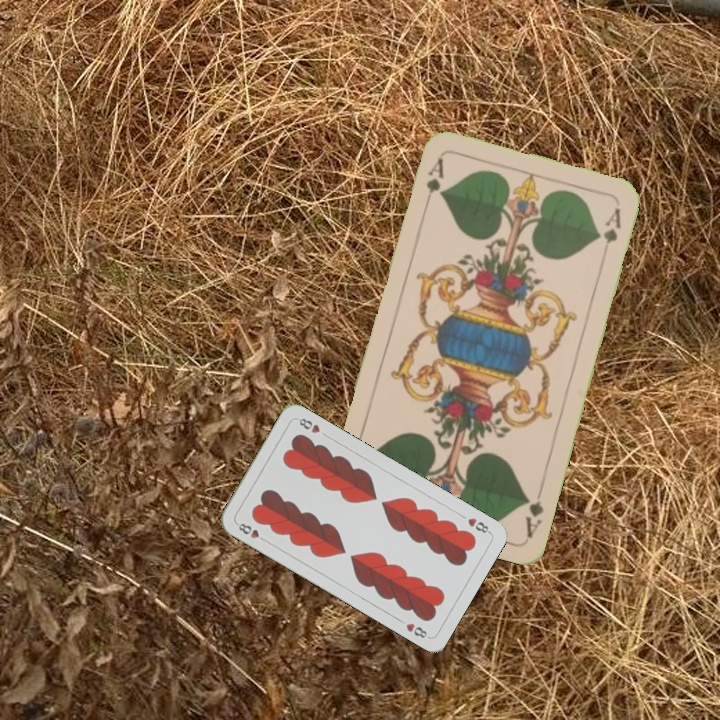GA: (420, 154, 447, 211), (521, 482, 547, 541)
H8: (232, 519, 269, 544), (463, 513, 493, 536)
